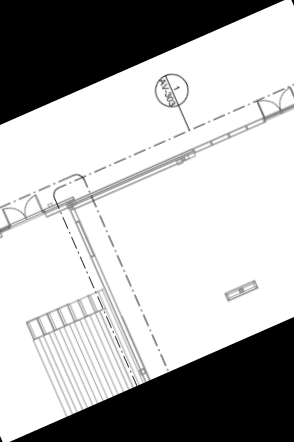double door: (0, 192, 47, 230), (256, 85, 294, 120)
window: (71, 218, 100, 262)
